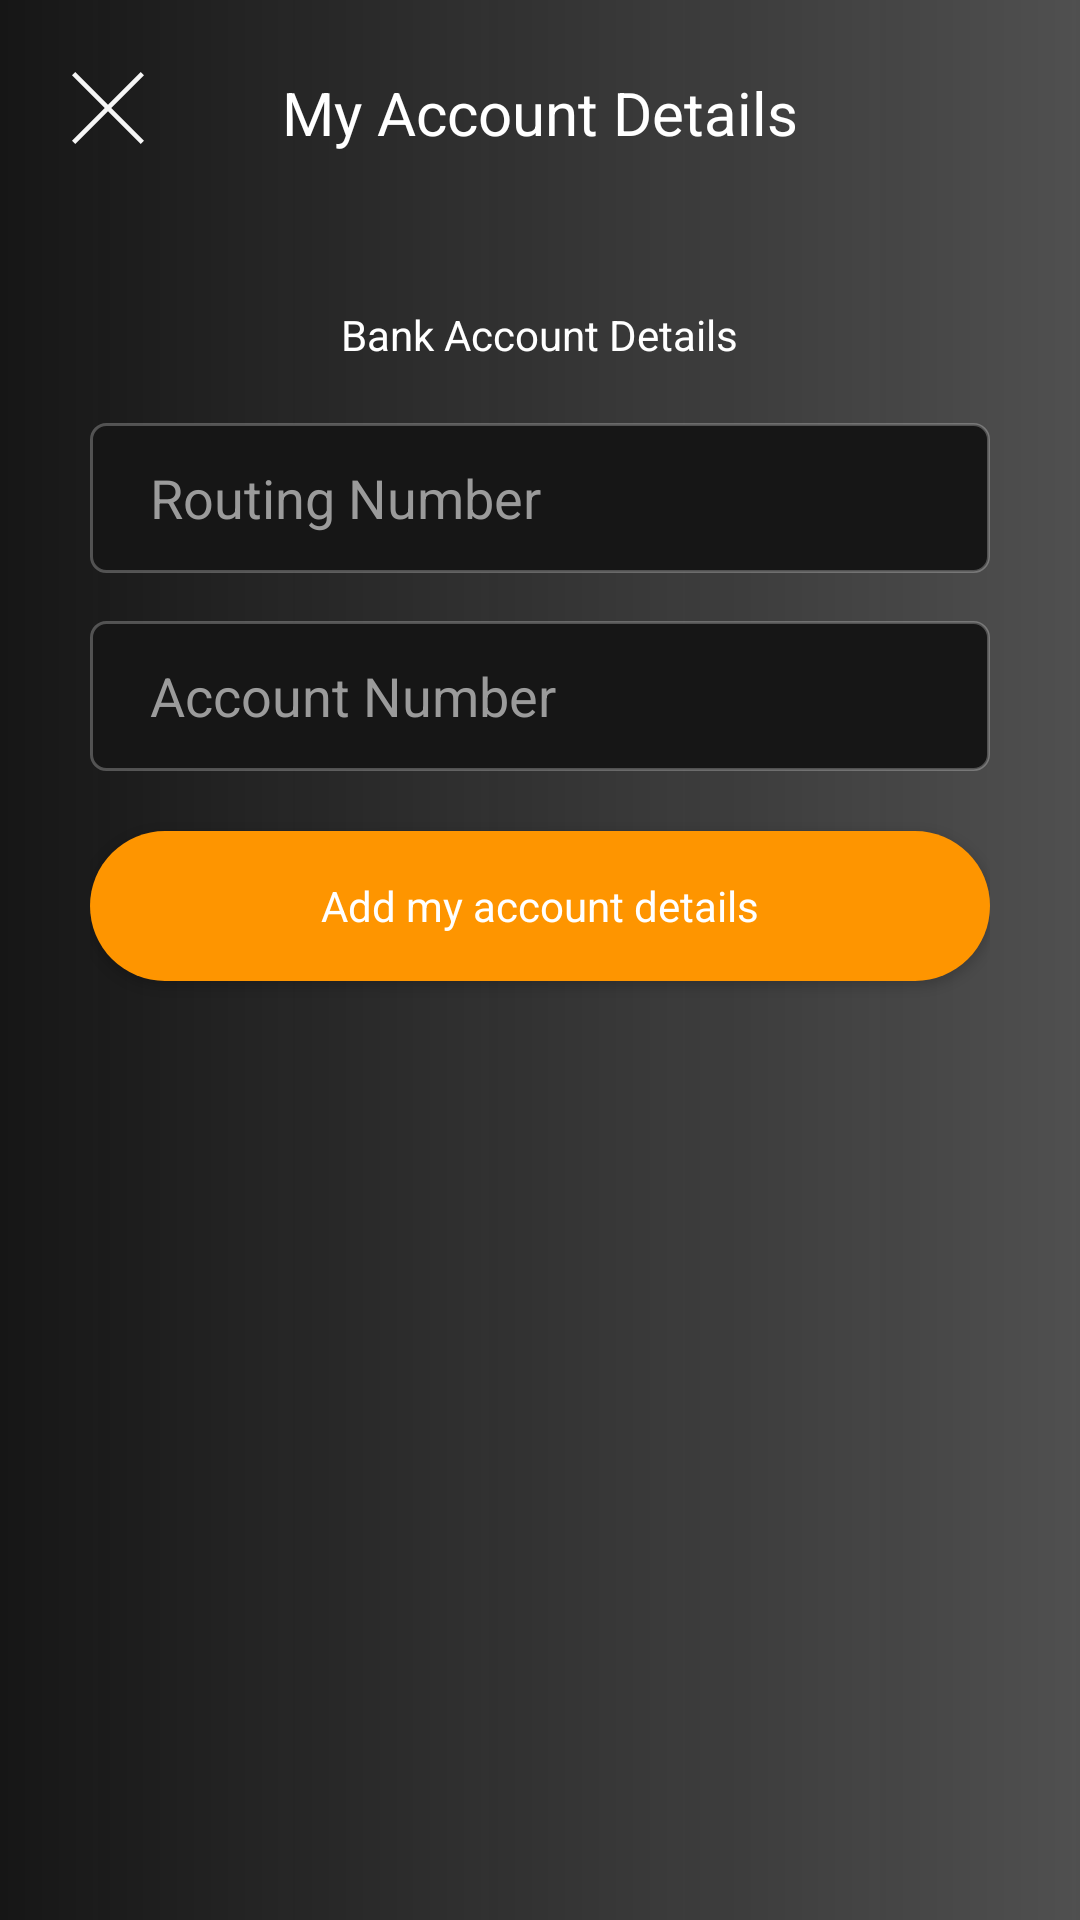

Icon click points for this 1080px×1920px phone screenshot, format point (x, y):
multiply: point (108, 108)
